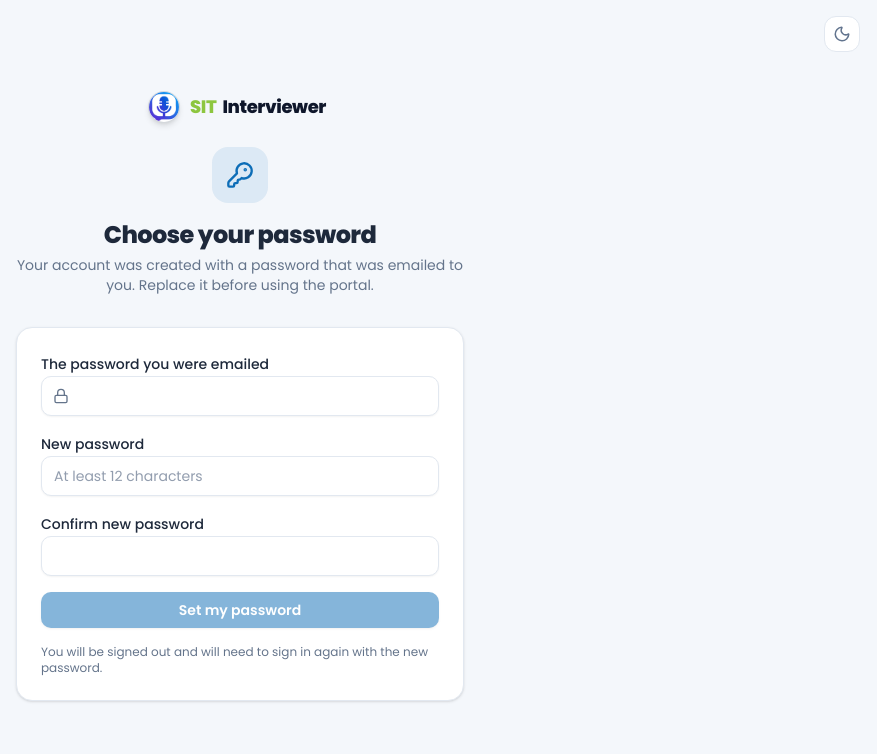
Test: ChangePasswordPage › surfaces a rejected current password instead of appearing to succeed
Type "emailed-one" into the password field labelled "The password you were emailed" at (240, 396), box top-left (41, 376), bottom-right (439, 416)
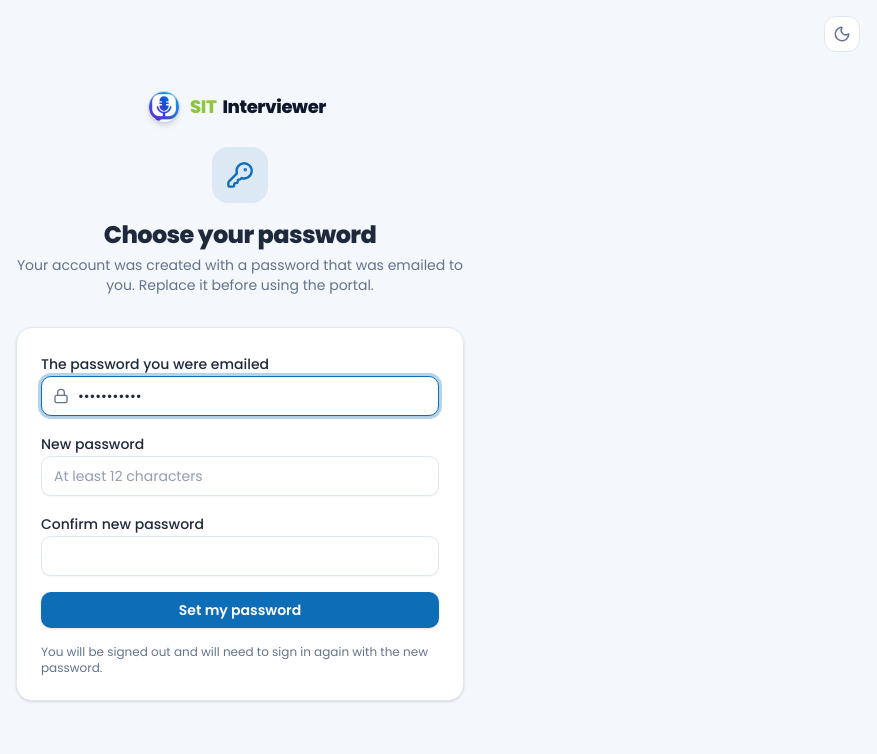
Type "a-long-enough-password" into the password field labelled "New password" at (240, 476), box top-left (41, 456), bottom-right (439, 496)
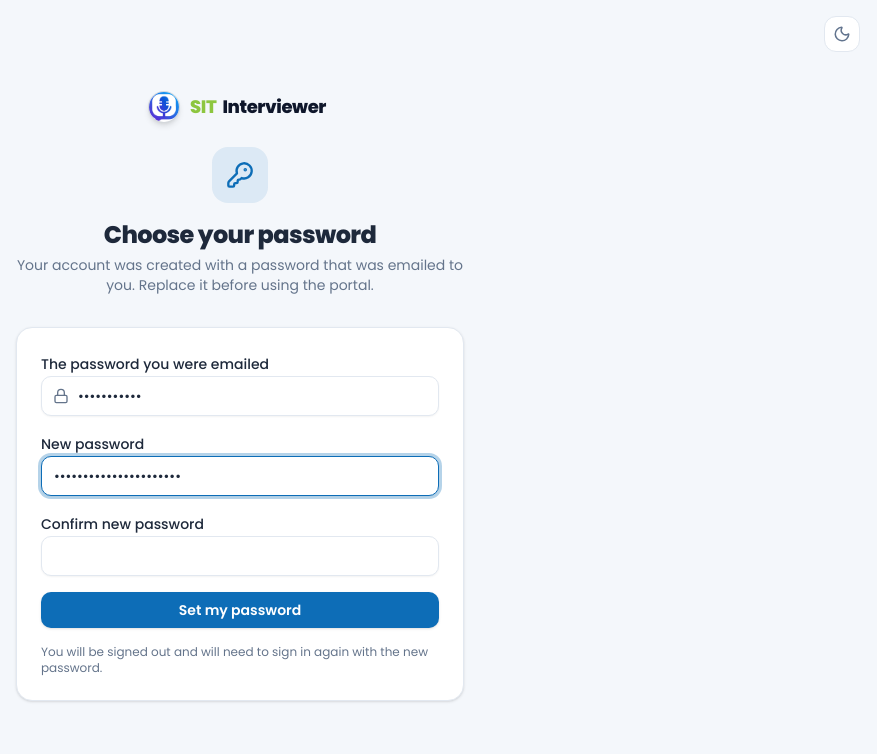
Type "a-long-enough-password" into the password field labelled "Confirm new password" at (240, 556), box top-left (41, 536), bottom-right (439, 576)
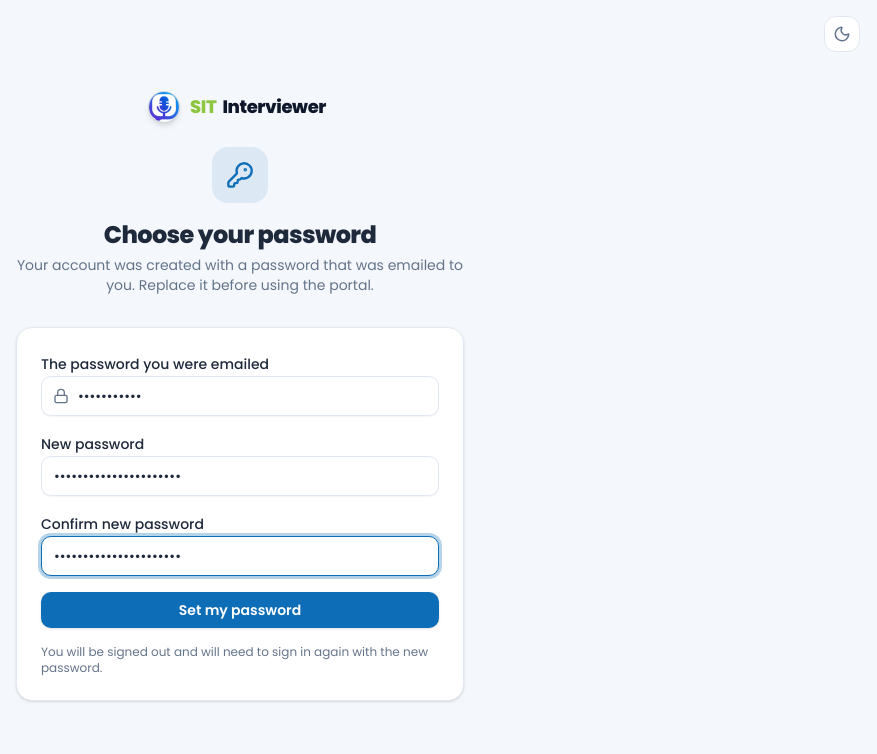
Click the button "Set my password" at (240, 610), box top-left (41, 592), bottom-right (439, 628)
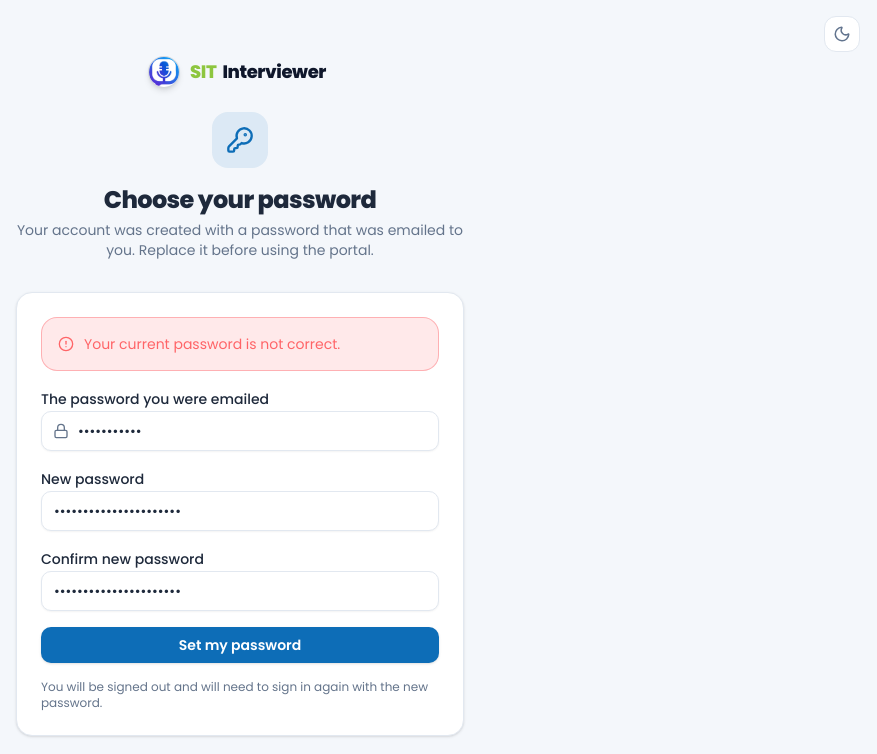
Expected: the text "Your current password is not correct." is shown, top-left (84, 334), bottom-right (340, 354)
